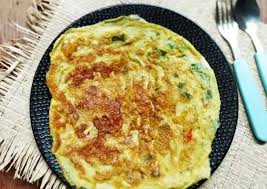Telur dadar: (46, 14, 221, 189)
